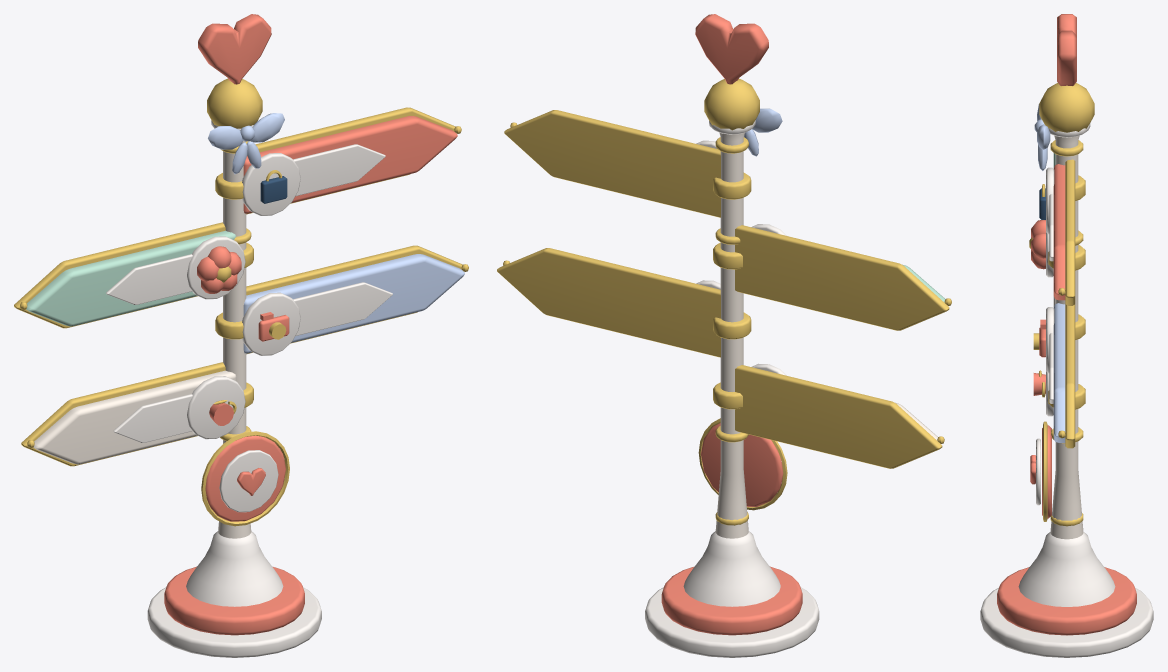
The model's file is wayfinding_post.glb.
3 views of the same model, side by side, from view 1: azimuth 30°, elevation 25°; view 2: azimuth 150°, elevation 25°; view 3: azimuth 270°, elevation 25° (orthographic).
Parts seen in each view (by area): view 1: wayfinding_post; view 2: wayfinding_post; view 3: wayfinding_post.
Part boxes in pixels (x1=…): wayfinding_post: x1=14, y1=14, x2=468, y2=657; wayfinding_post: x1=497, y1=14, x2=951, y2=657; wayfinding_post: x1=980, y1=14, x2=1153, y2=657.
Bounding box in the file's own units: 3.1 × 3.96 × 1.04.
